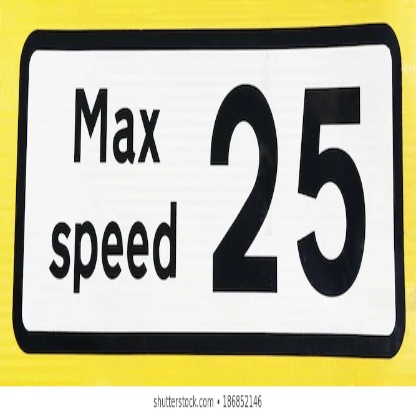limit1: (16, 27, 406, 358)
